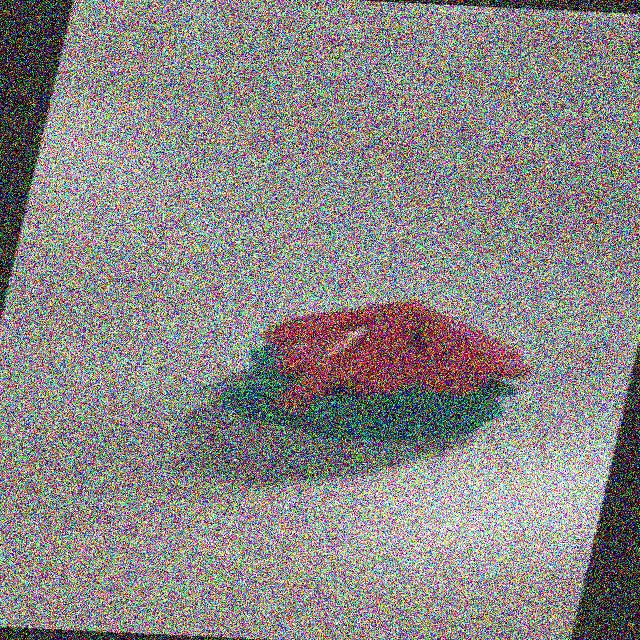House: (203, 290, 543, 448)
